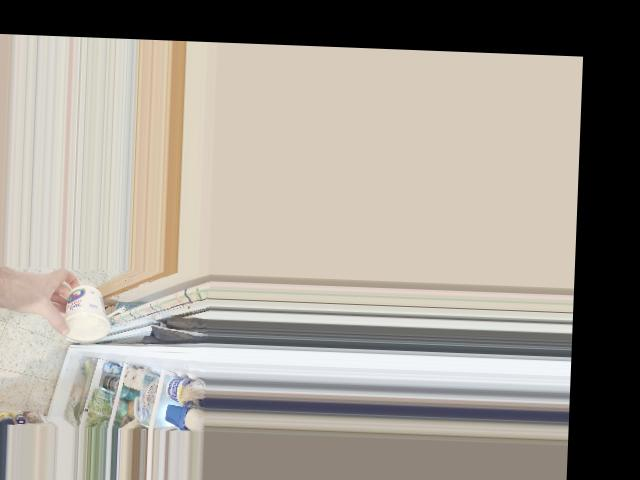cotage: (60, 279, 109, 341)
